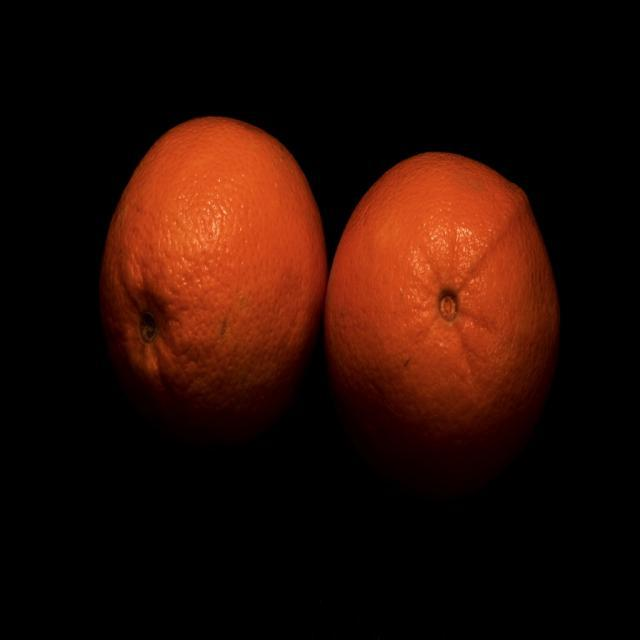Orange: (101, 113, 329, 439), (322, 146, 556, 436)
